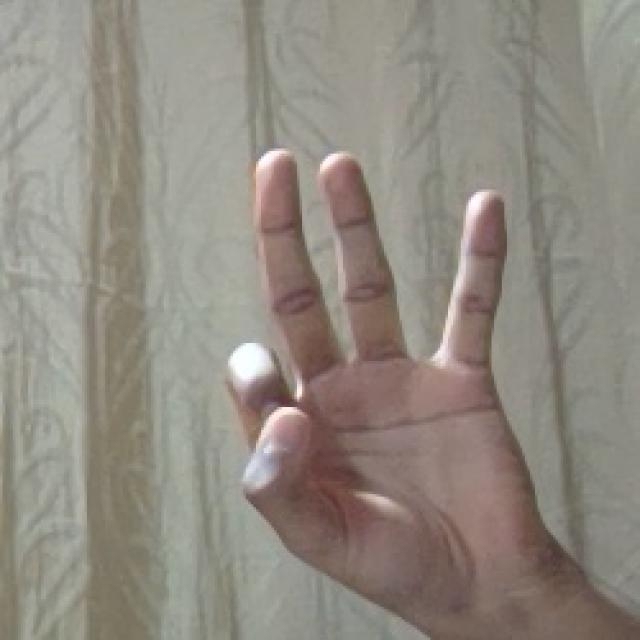Numeric-9: (231, 151, 518, 604)
